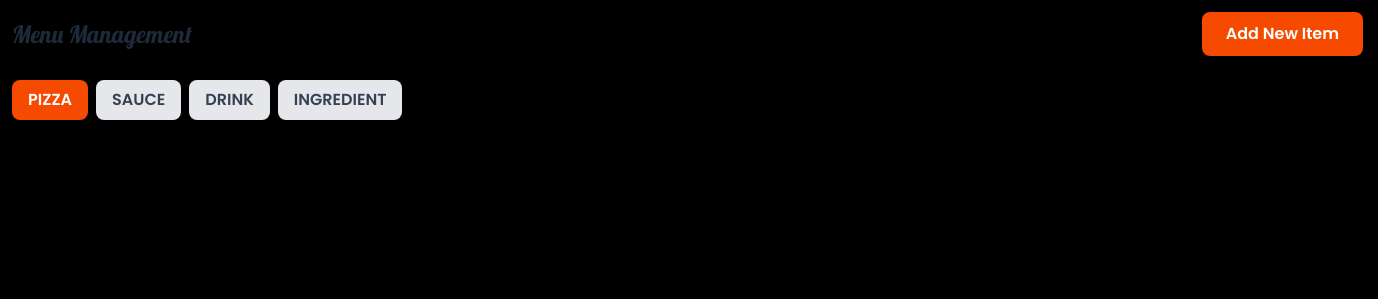
MenuManager - ingredient integration › shows error when adding duplicate ingredient
Click the button "INGREDIENT": coordinates (340, 100) top-left (278, 80), bottom-right (402, 120)
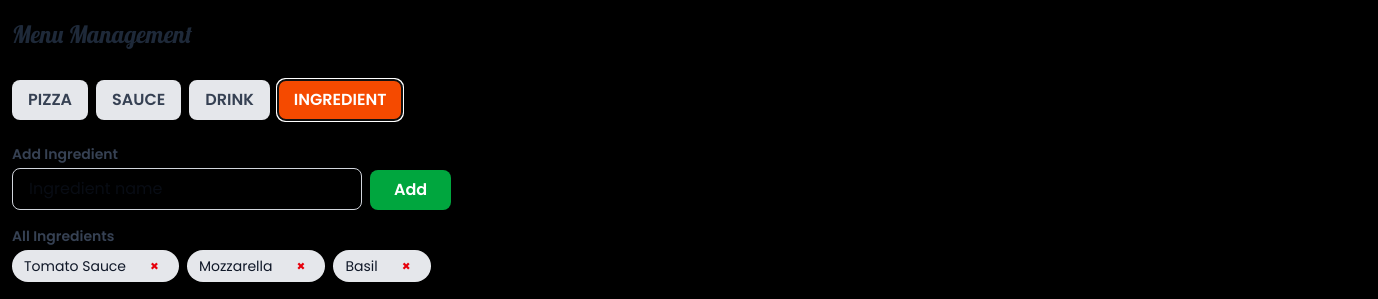
In the field with placeholder "Ingredient name": coordinates (187, 189) top-left (12, 168), bottom-right (362, 210), type "Tomato"
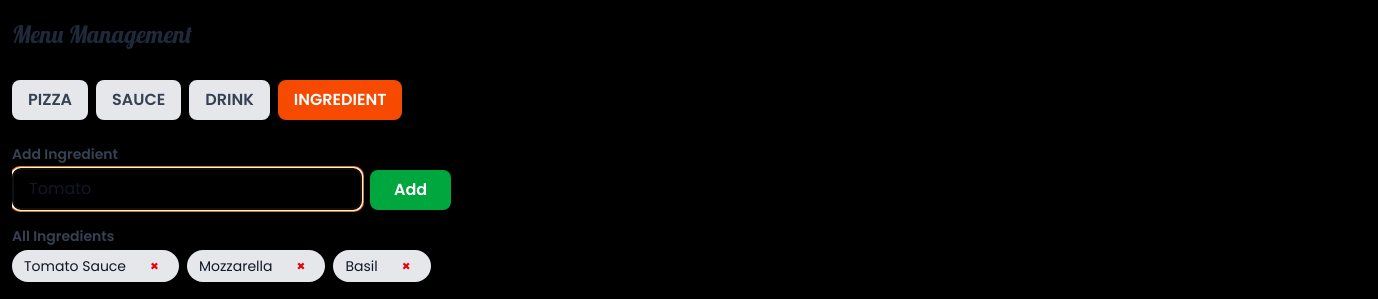
Click the button "Add": coordinates (411, 190) top-left (370, 170), bottom-right (451, 210)
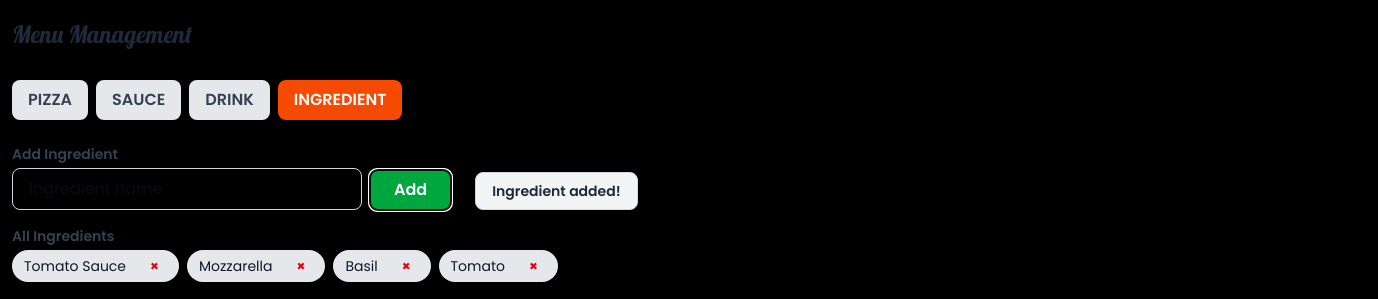
In the field with placeholder "Ingredient name": coordinates (187, 189) top-left (12, 168), bottom-right (362, 210), type "Tomato"
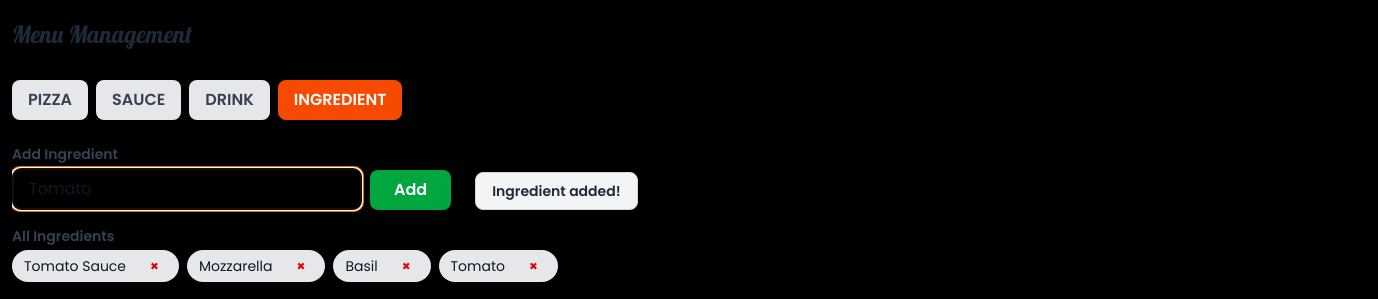
Click the button "Add": coordinates (411, 190) top-left (370, 170), bottom-right (451, 210)
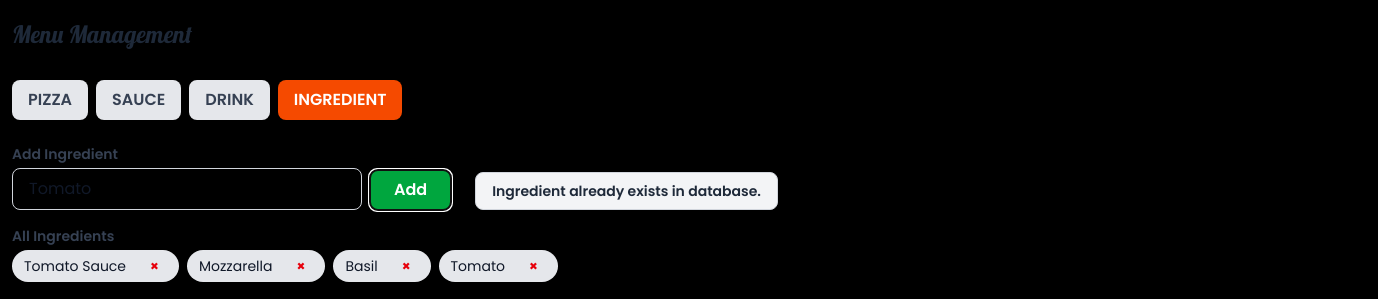
Result: the text "Ingredient already exists in database." is shown at top-left (475, 172), bottom-right (778, 210)
